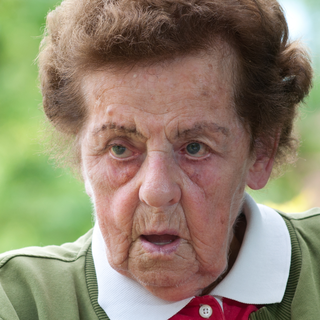eye: (173, 138, 217, 161), (102, 139, 140, 163)
